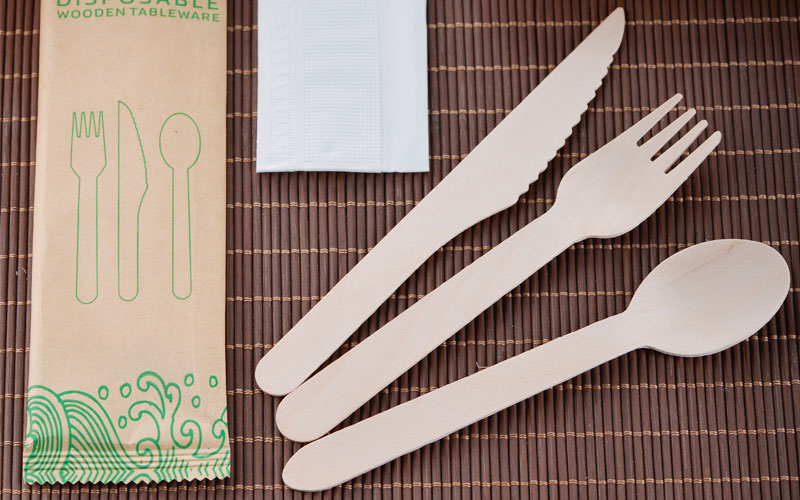Wooden Utensils: (246, 11, 792, 496)
